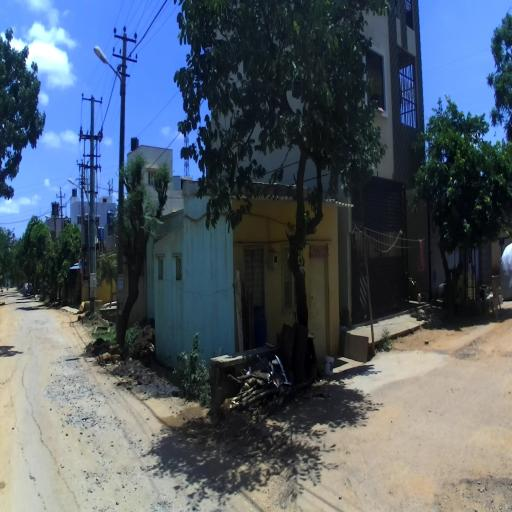street_light_0: (93, 45, 126, 98), (67, 178, 84, 200), (44, 214, 50, 219)
